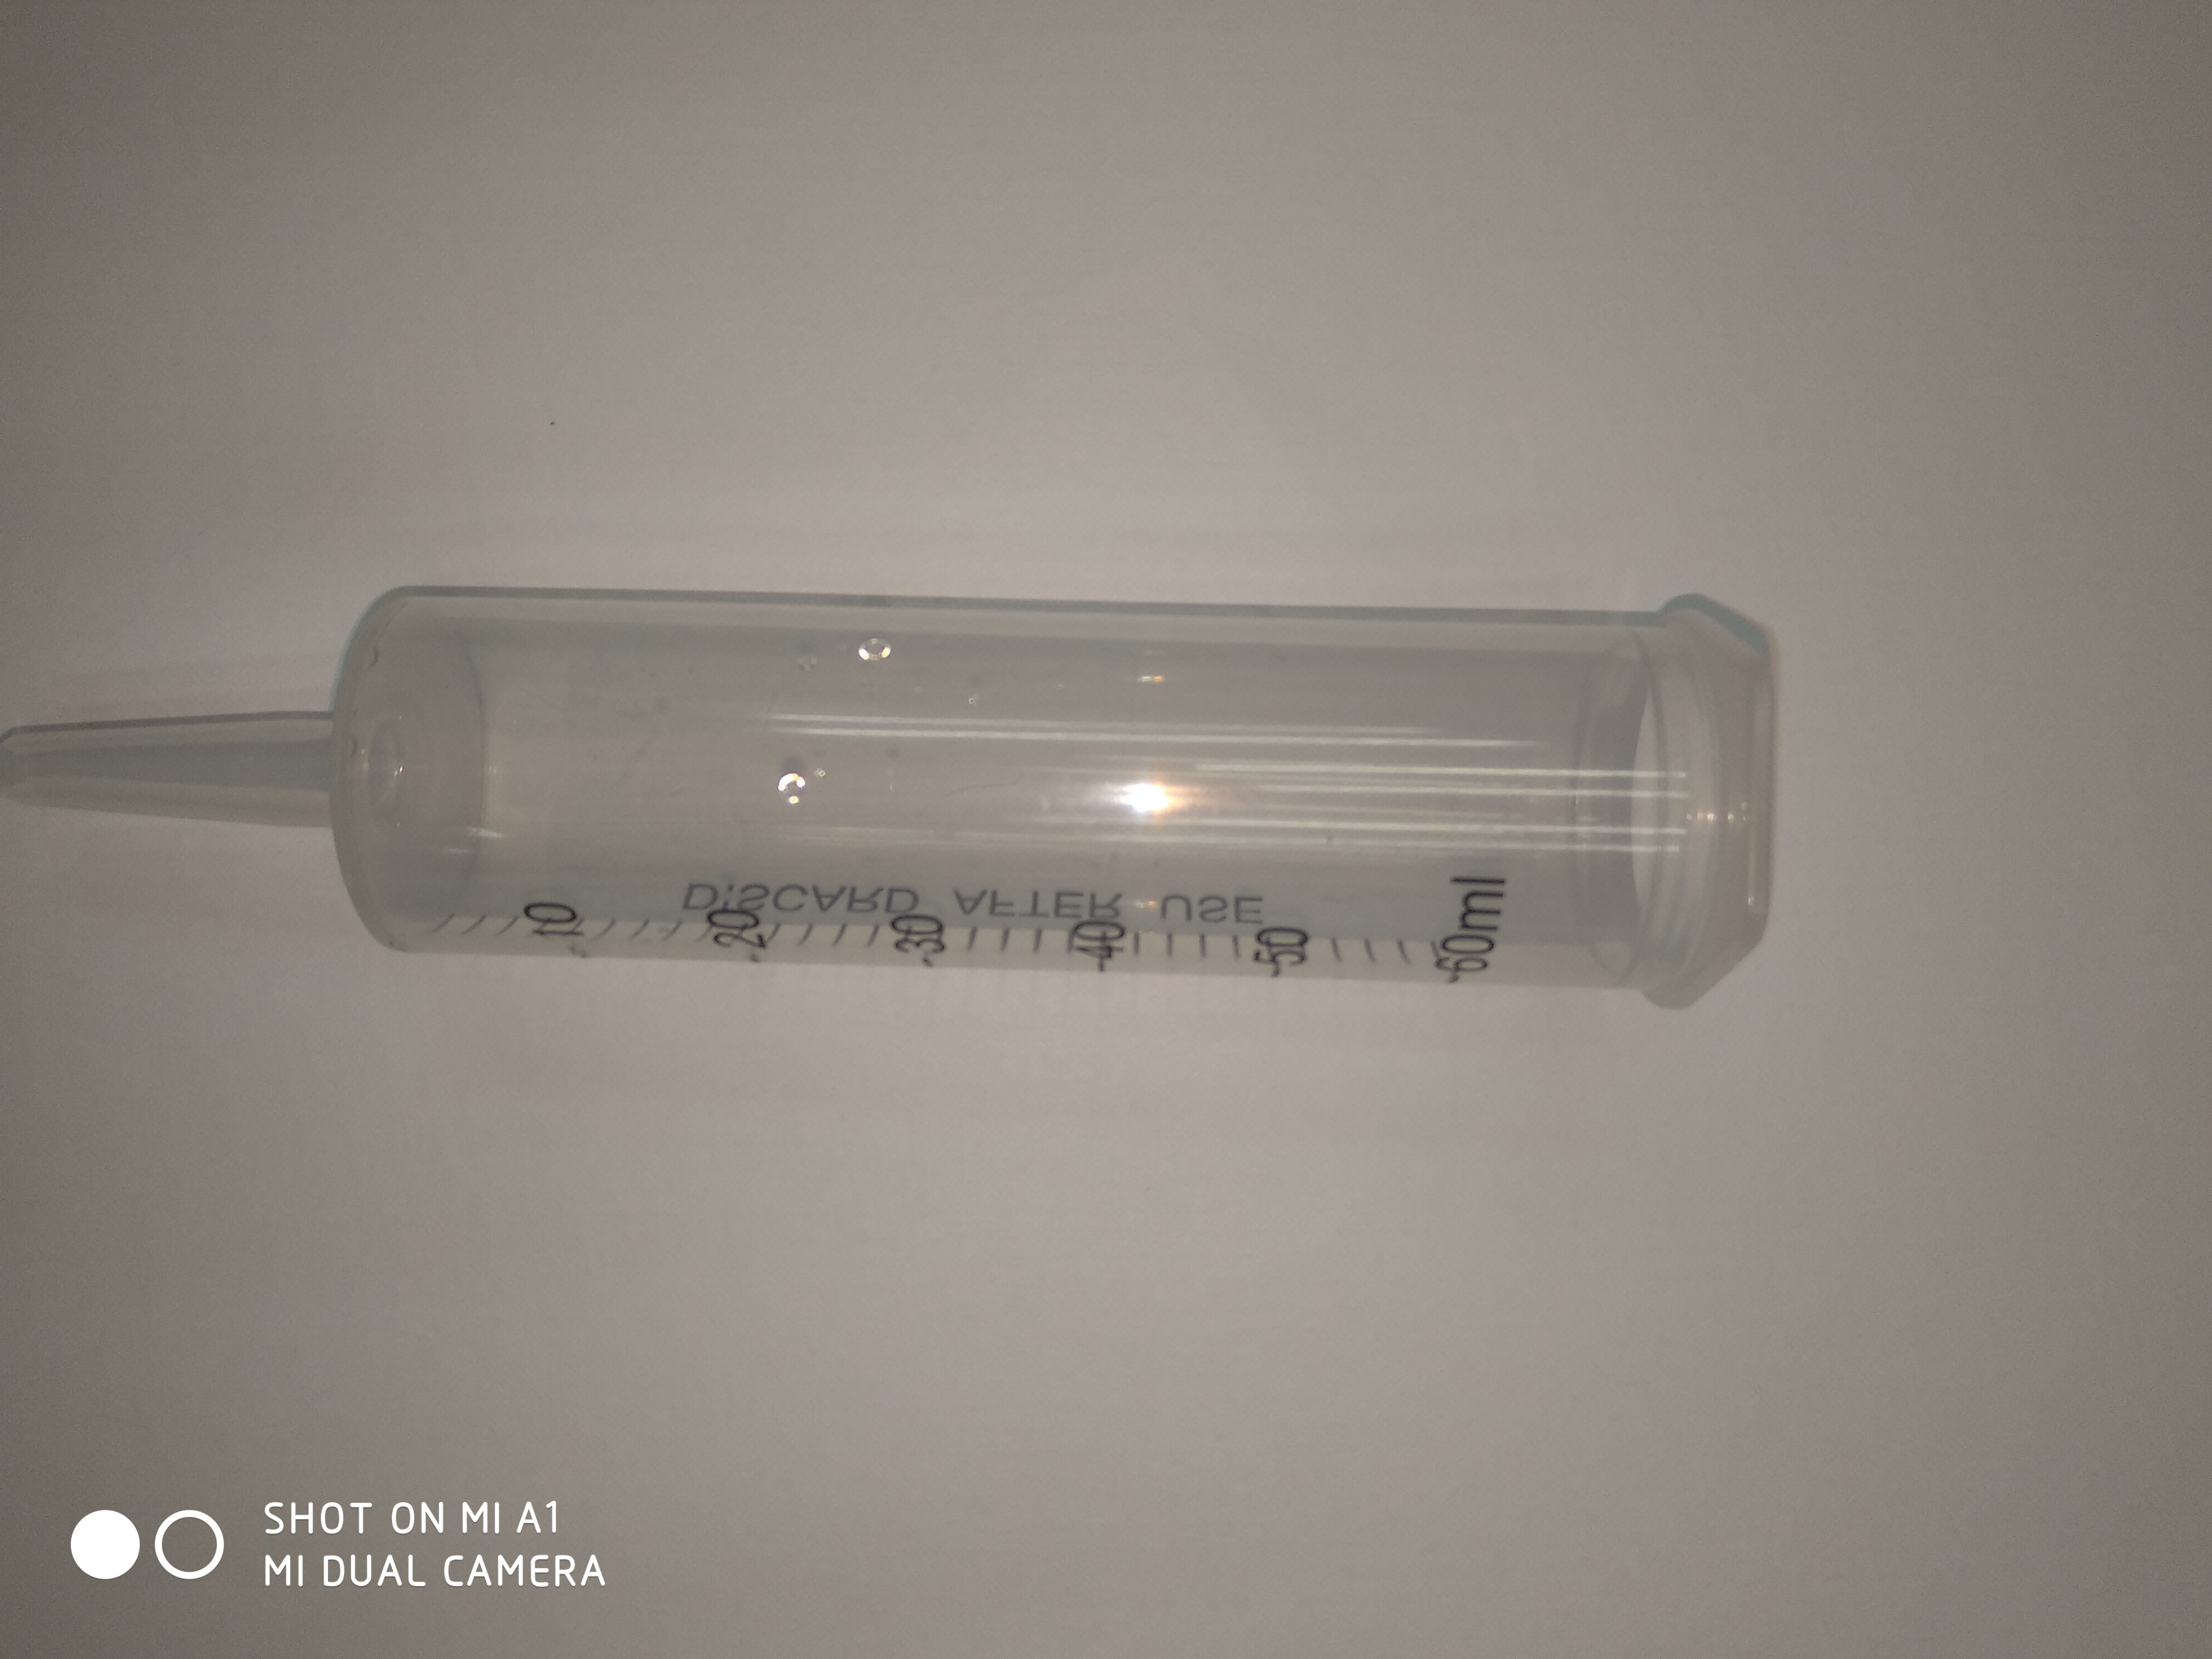syringe: (0, 575, 1796, 1018)
